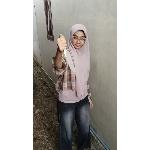Pisau: (56, 32, 77, 72)
